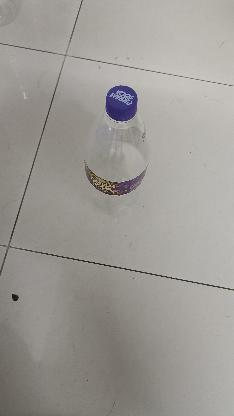Plastic Bottle: (83, 84, 151, 212)
